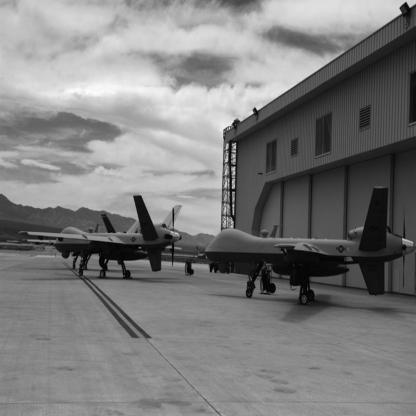MQ9: (205, 187, 416, 306), (19, 195, 184, 279), (22, 214, 183, 272)
